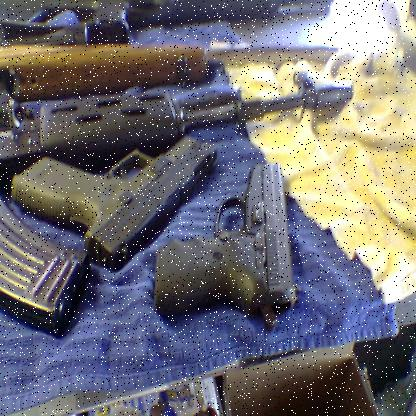pistol: (10, 130, 218, 269), (153, 161, 300, 325)
